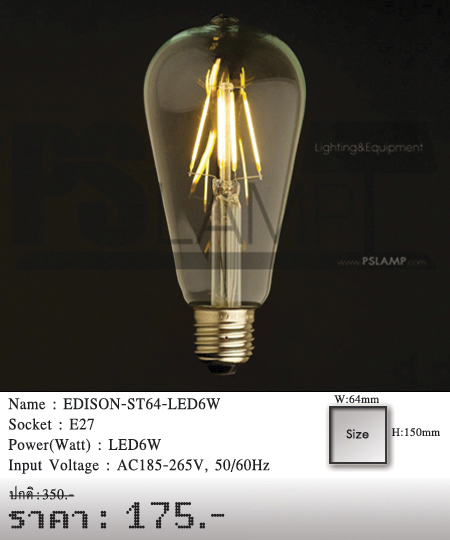Light_bulb: (137, 12, 312, 377)
